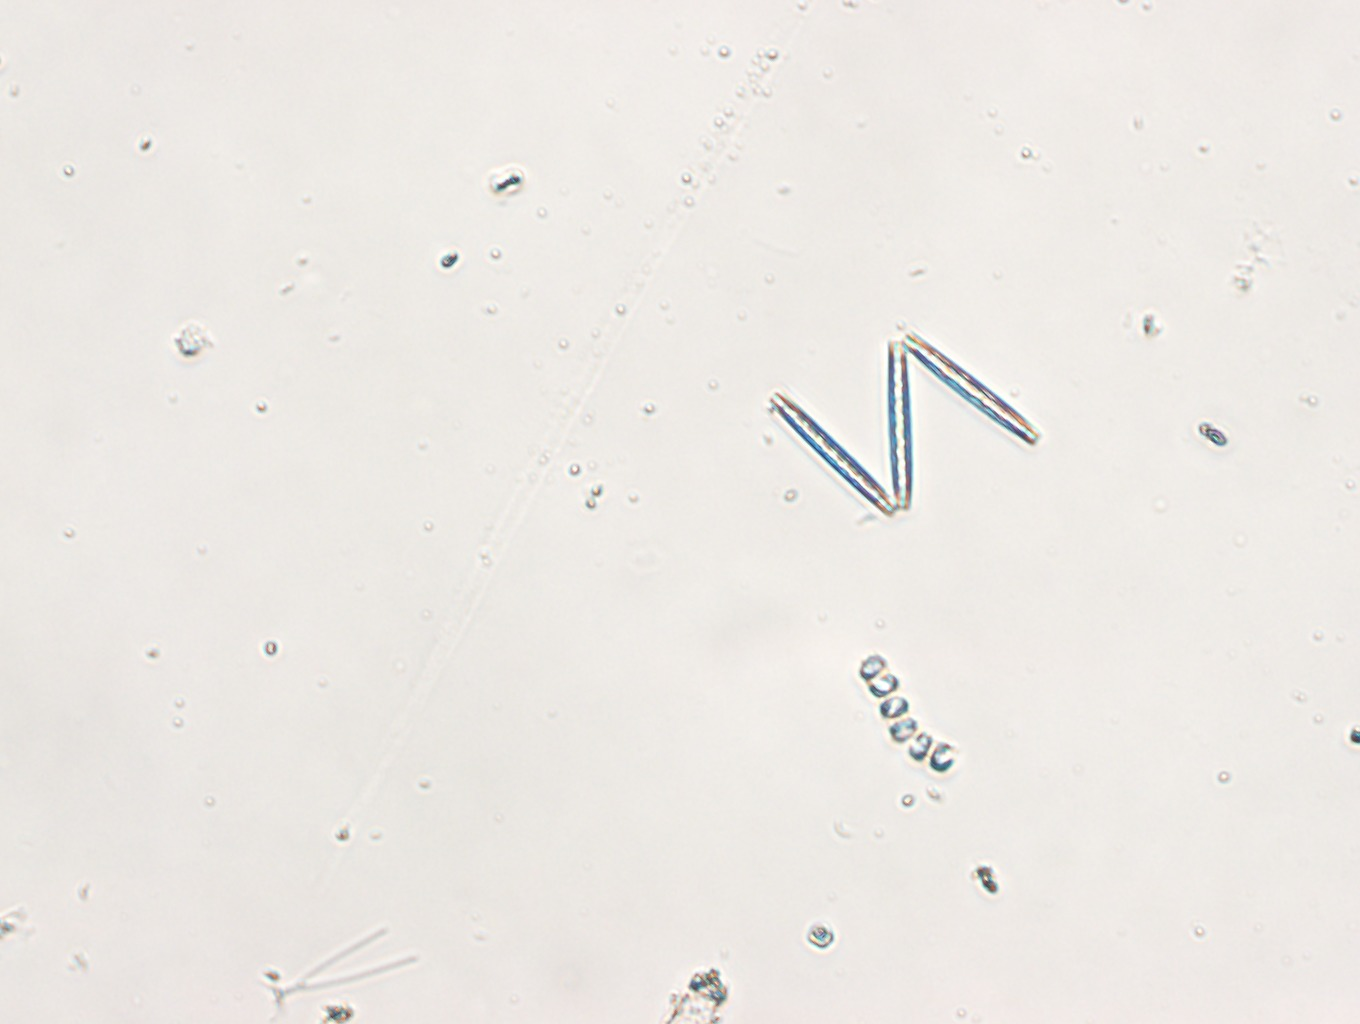skeletonema: (855, 652, 961, 777)
thalassionema nitzschioides: (761, 330, 1044, 520)
